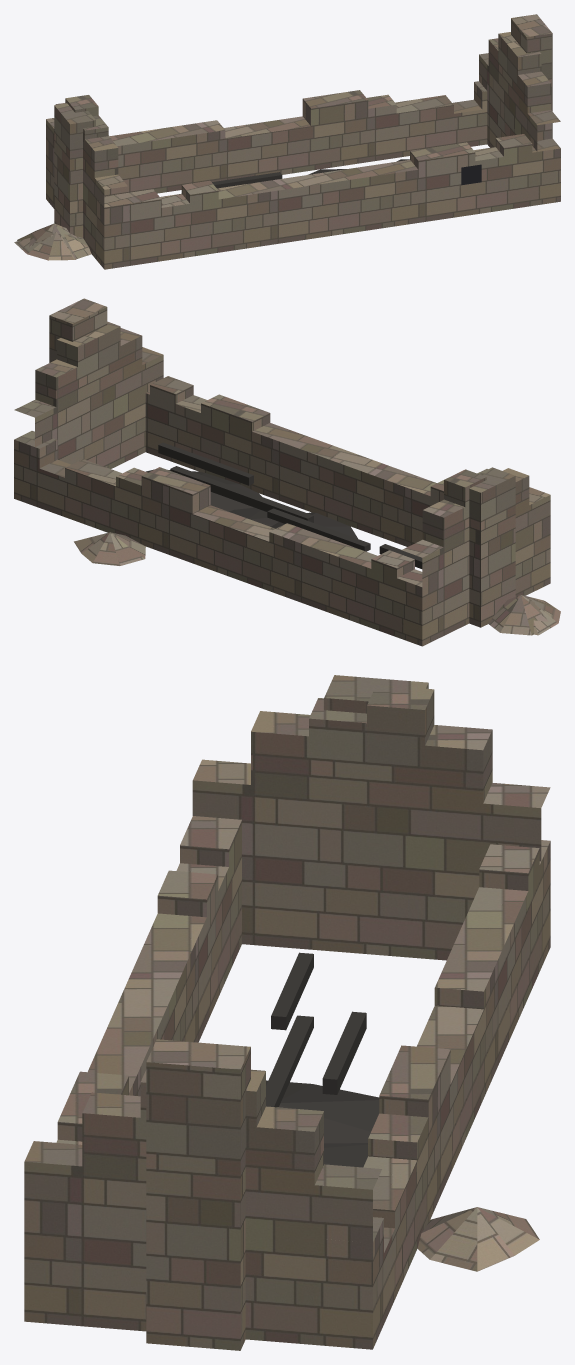
3 renders of one model, top to bottom at view 1: azimuth 30°, elevation 25°; view 2: azimuth 150°, elevation 25°; view 3: azimuth 270°, elevation 25°, orthographic. The views are drawn at different scales.
Parts seen in each view (by area): view 1: b001081_ruin_wall, b001081_ruin_char, b001081_ruin_glass; view 2: b001081_ruin_wall, b001081_ruin_char; view 3: b001081_ruin_wall, b001081_ruin_char.
Part boxes in pixels (x1,y1,x2,y2): b001081_ruin_wall: (14, 14, 560, 269); b001081_ruin_char: (212, 159, 409, 188); b001081_ruin_glass: (461, 164, 481, 185); b001081_ruin_wall: (14, 298, 560, 646); b001081_ruin_char: (146, 442, 422, 568); b001081_ruin_wall: (24, 675, 550, 1350); b001081_ruin_char: (266, 952, 379, 1167).
Size of the model in its own units: 14.27 by 3.96 by 6.71.
3 materials, 1 textured.
